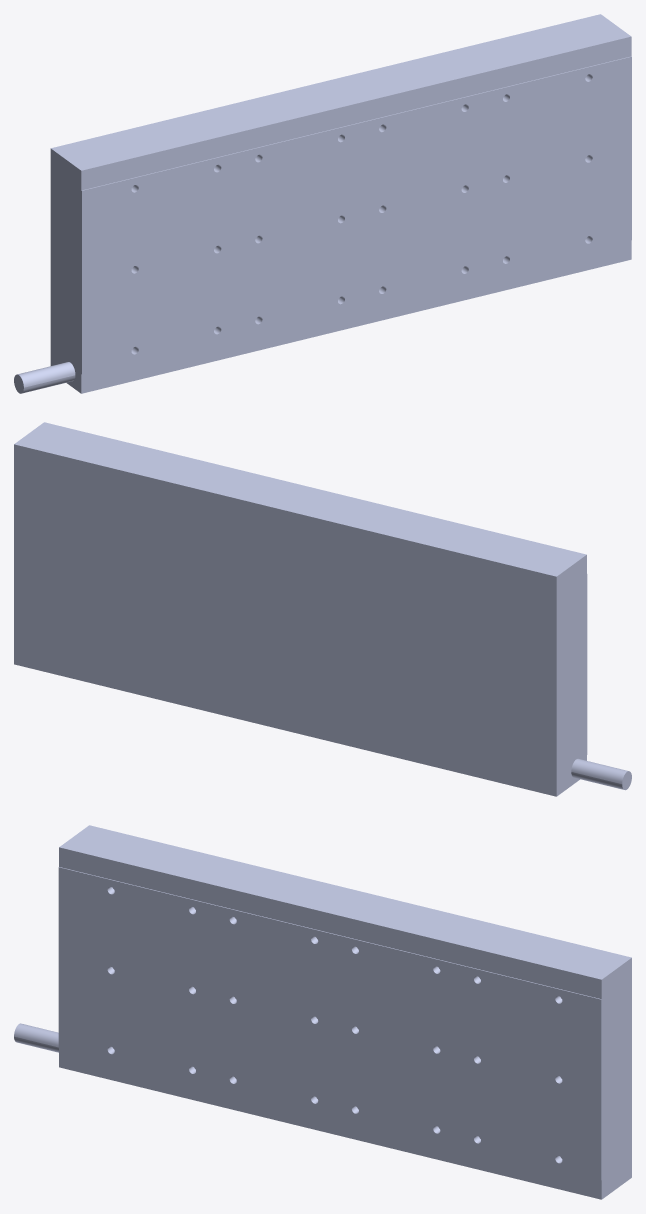
File: MTC-18.glb
The picture shows the model from 3 angles, top to bottom: view 1: azimuth 30°, elevation 25°; view 2: azimuth 150°, elevation 25°; view 3: azimuth 330°, elevation 25°; orthographic projection.
Parts seen in each view (by area): view 1: MTC-18_node_1; view 2: MTC-18_node_1; view 3: MTC-18_node_1.
Part boxes in pixels (x1,y1,x2,y2): MTC-18_node_1: [14, 14, 631, 393]; MTC-18_node_1: [14, 422, 631, 796]; MTC-18_node_1: [14, 825, 631, 1199].
Size of the model in its own units: 350 by 124 by 31.4.
